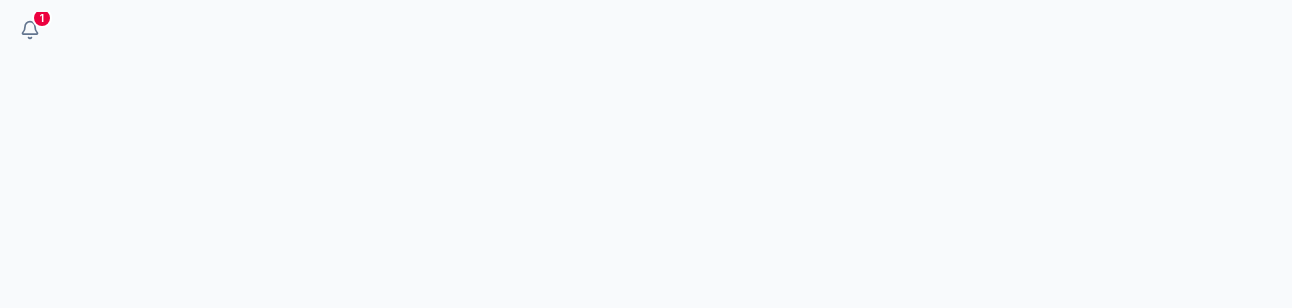
Test: Faculty Review Scheduling & Student Notifications › renders student notification bell with review reminder badge and message details
Later steps or results of the test are not shown.
Expected: the text with test id "unread-count-badge" reads "1", [40,12,44,24]
Click the button named "view notifications". click: (30, 30)
box: [12,12,48,48]
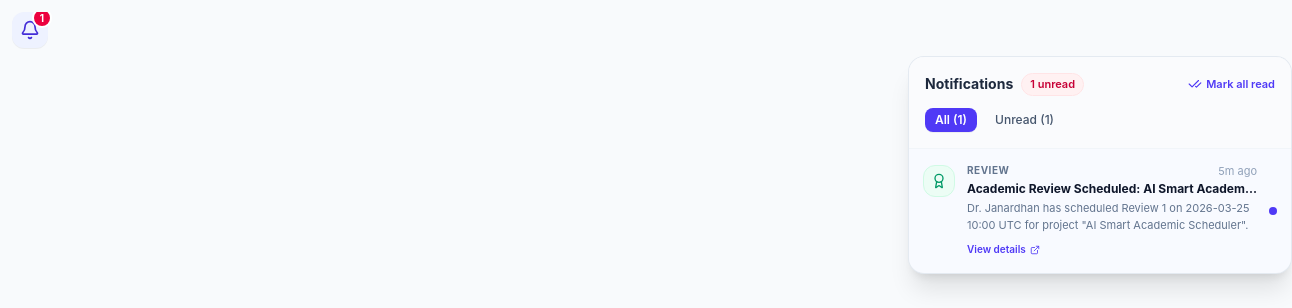
Now the heading "Academic Review Scheduled: AI Smart Academic Scheduler" is shown, box [967,181,1257,198]
Now the text "Dr. Janardhan has scheduled Review 1" is shown, box [967,200,1249,232]
Now the text "Review" is shown, box [967,163,1009,178]
